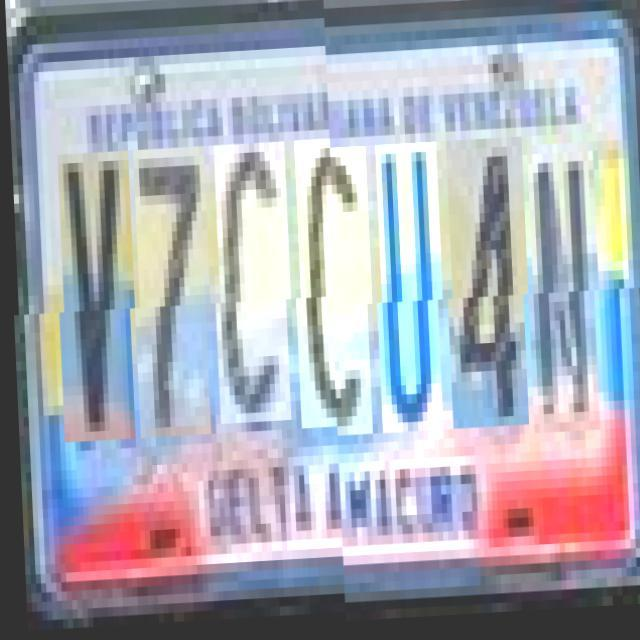4: (444, 143, 530, 434)
7: (132, 158, 213, 448)
C: (293, 150, 374, 441), (212, 154, 292, 436)
N: (525, 149, 601, 440)
U: (374, 147, 444, 437)
V: (56, 161, 137, 452)
